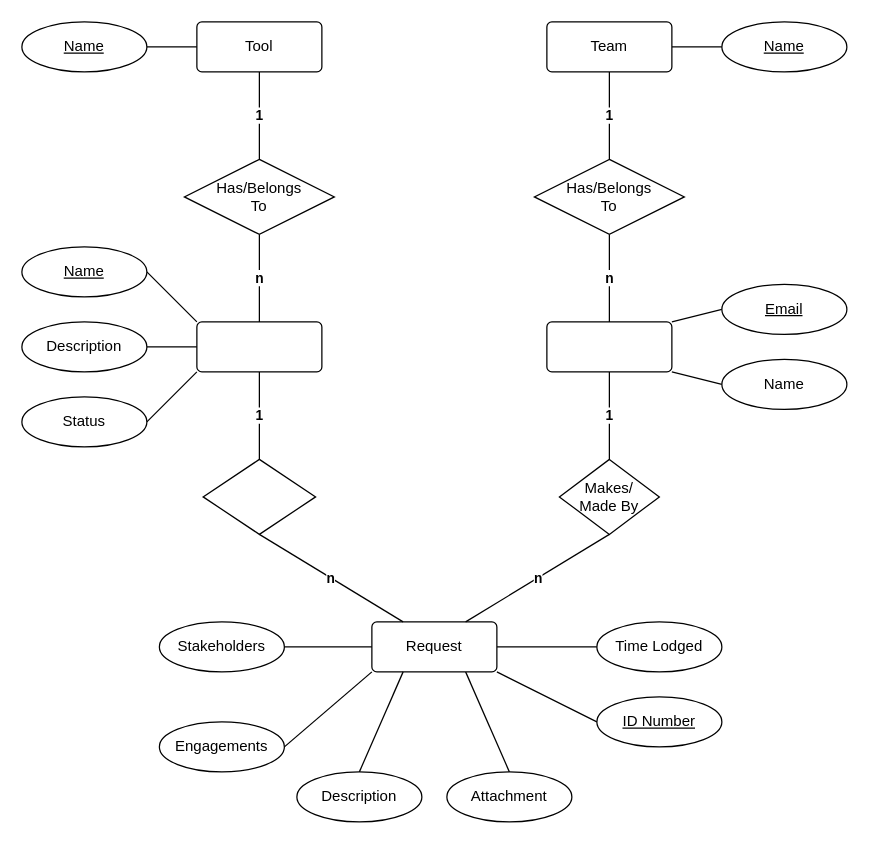
The diagram is 869 pixels wide and 844 high, and some of its shapes have lost their labels. Each missing label, with the centre of its shape:
"Enhancement" goes at pixel 259 496.
"Feature" goes at pixel 259 346.
"User" goes at pixel 609 346.
